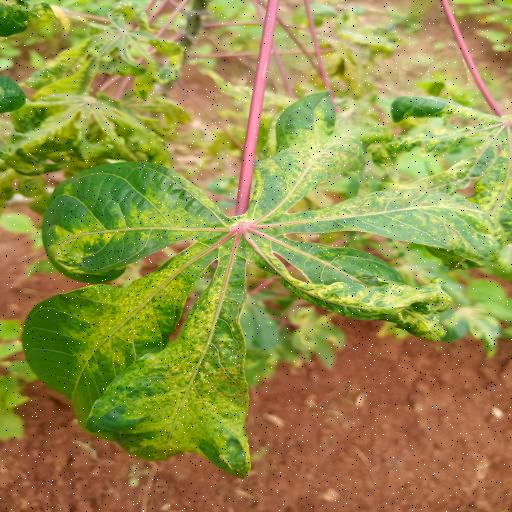Cassava_Mosaic: (23, 94, 512, 476)
